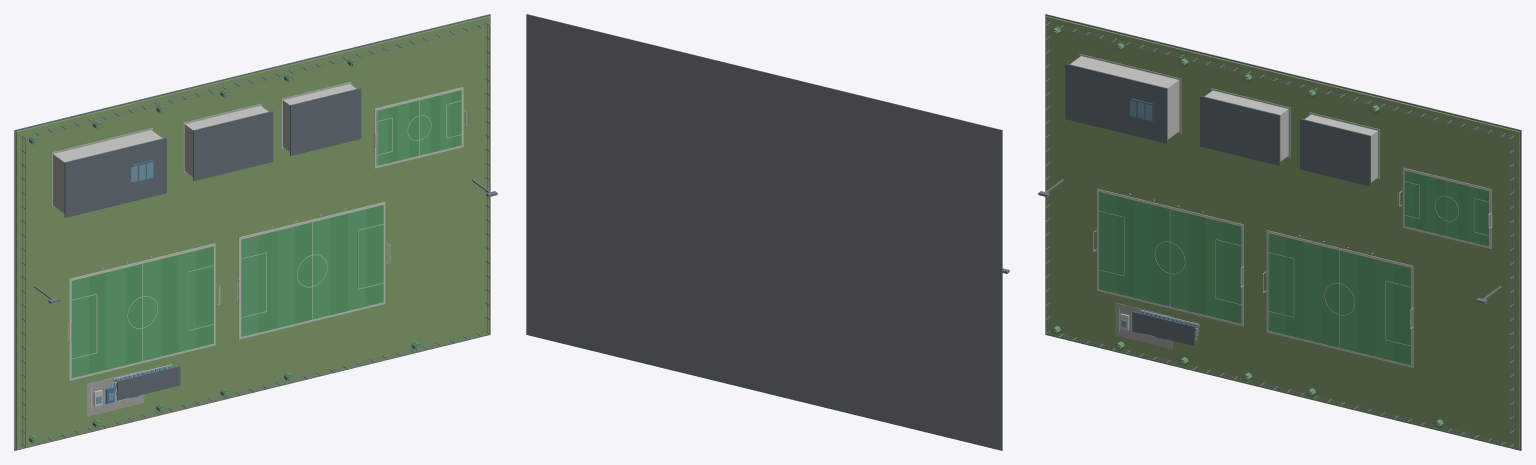
File: youth_academy_level_3.glb
3 renders of one model, left to right at view 1: azimuth 30°, elevation 25°; view 2: azimuth 150°, elevation 25°; view 3: azimuth 330°, elevation 25°, orthographic.
Parts seen in each view (by area): view 1: grass, pitch, stripe, roof, white, fence, wall, trim, concrete, path, tree; view 2: trim; view 3: grass, stripe, pitch, roof, white, fence, wall, trim, concrete, path, tree.
Part boxes in pixels (left/top/right/bottom): grass: left=16, top=16, right=490, bottom=449; pitch: left=89, top=90, right=461, bottom=373; stripe: left=71, top=92, right=451, bottom=378; roof: left=64, top=88, right=361, bottom=400; white: left=68, top=87, right=468, bottom=410; fence: left=21, top=22, right=490, bottom=447; wall: left=53, top=84, right=356, bottom=213; trim: left=14, top=14, right=497, bottom=450; concrete: left=51, top=82, right=351, bottom=395; path: left=87, top=370, right=144, bottom=416; tree: left=29, top=58, right=421, bottom=444; trim: left=526, top=14, right=1009, bottom=450; grass: left=1045, top=16, right=1519, bottom=449; stripe: left=1099, top=171, right=1478, bottom=360; pitch: left=1116, top=173, right=1488, bottom=365; roof: left=1065, top=63, right=1370, bottom=345; white: left=1093, top=167, right=1492, bottom=367; fence: left=1045, top=22, right=1514, bottom=447; wall: left=1070, top=56, right=1377, bottom=182; trim: left=1038, top=14, right=1521, bottom=450; concrete: left=1079, top=54, right=1379, bottom=340; path: left=1115, top=302, right=1172, bottom=349; tree: left=1051, top=27, right=1443, bottom=428.
Size of the model in its own units: 107 by 68.6 by 8.54.
